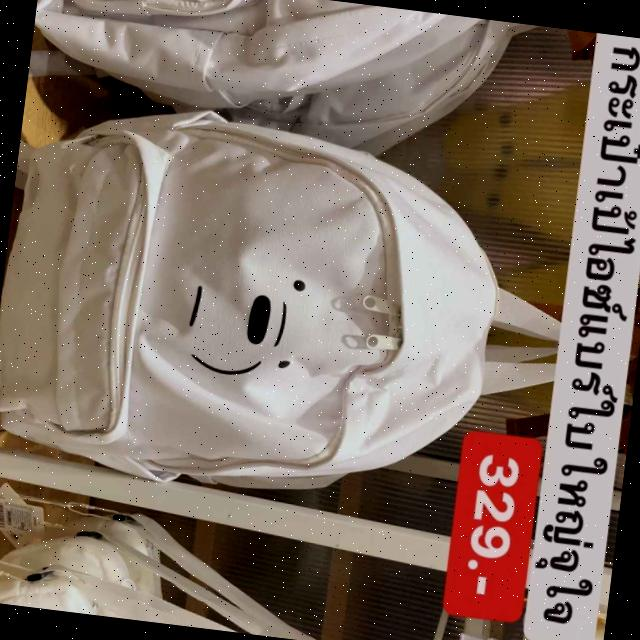Handbag: (0, 88, 516, 527)
